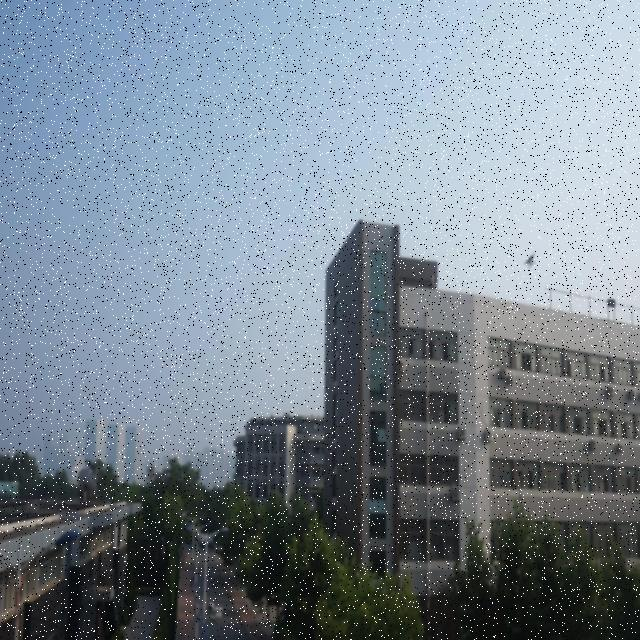UAV: (524, 251, 536, 270)
